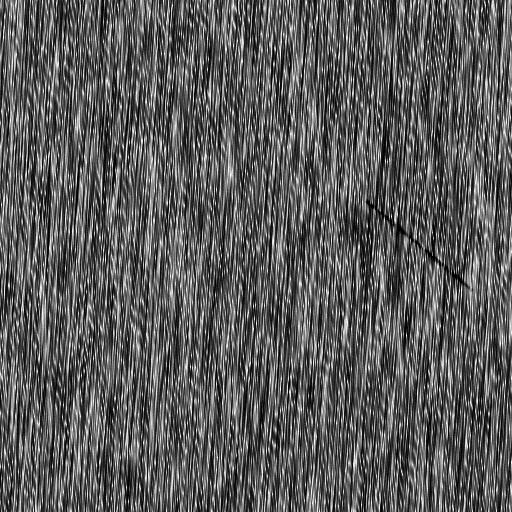DefectTypeC: (365, 201, 473, 289)
